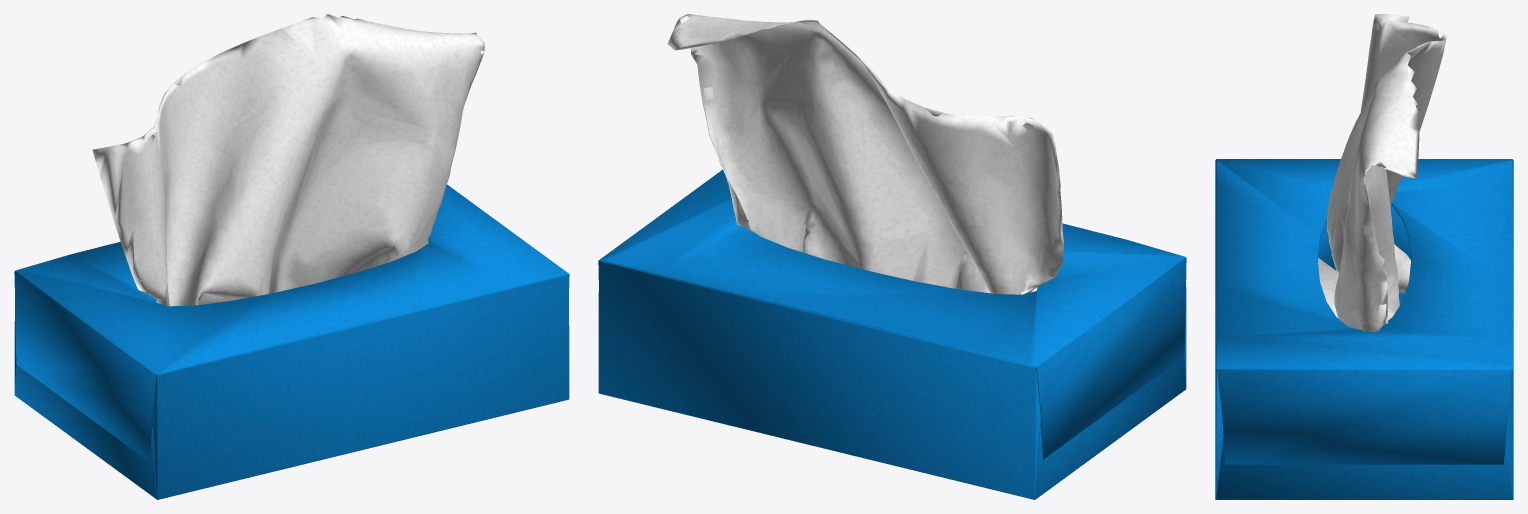
File: TissuePaperBox.fbx
The picture shows the model from 3 angles, left to right: view 1: azimuth 30°, elevation 25°; view 2: azimuth 150°, elevation 25°; view 3: azimuth 270°, elevation 25°; orthographic projection. The views are drawn at different scales.
Visible parts, largest first — view 1: tissue_box_1257; view 2: tissue_box_1257; view 3: tissue_box_1257.
Part boxes in pixels (box(x1,y1,x2,y2)): tissue_box_1257: box(14, 14, 569, 499); tissue_box_1257: box(598, 14, 1186, 499); tissue_box_1257: box(1215, 14, 1513, 499).
Size of the model in its own units: 2012 by 1624 by 1191.
Materials: 1 (1 with a texture image).
